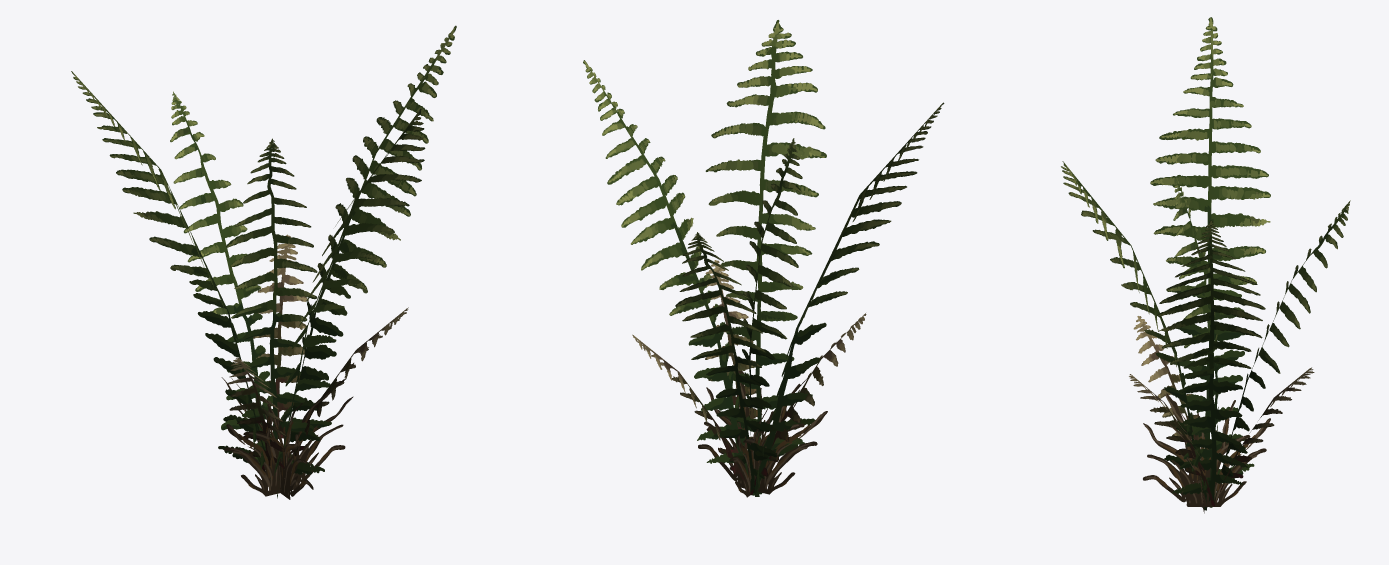
The model's file is FernPatch1_Mesh_01.fbx.
The picture shows the model from 3 angles, left to right: view 1: azimuth 30°, elevation 25°; view 2: azimuth 150°, elevation 25°; view 3: azimuth 270°, elevation 25°; orthographic projection. The views are drawn at different scales.
Visible parts, largest first — view 1: Plane.026; view 2: Plane.026; view 3: Plane.026.
Part boxes in pixels (box(x1,y1,x2,y2)): Plane.026: box(71, 25, 456, 499); Plane.026: box(583, 20, 944, 497); Plane.026: box(1061, 17, 1350, 513).
Size of the model in its own units: 80.89 by 90.98 by 67.79.
